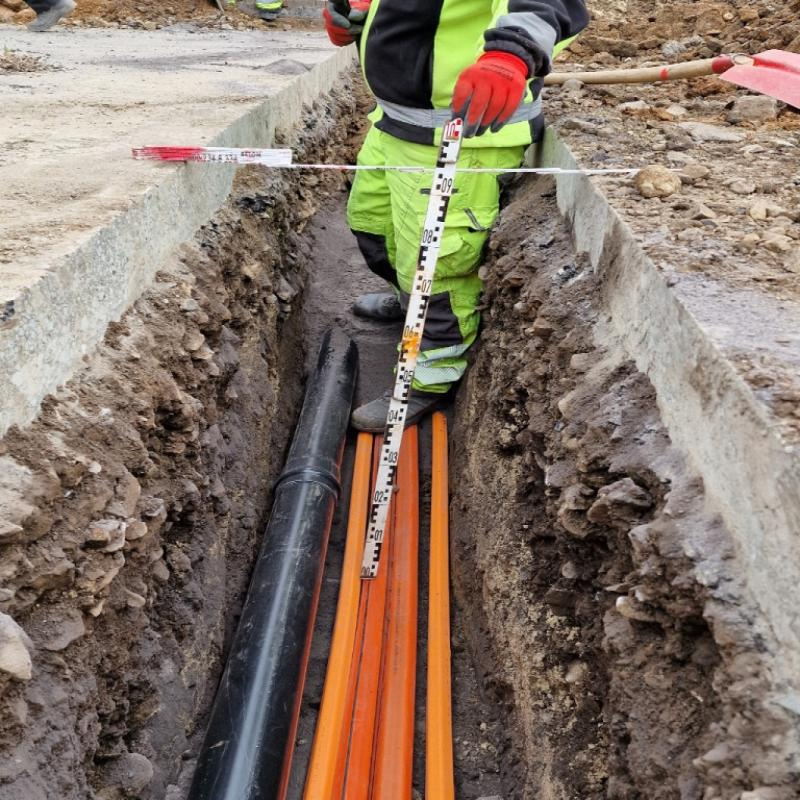Orang-Speednetrohrchen: (305, 427, 416, 799), (427, 417, 453, 800)
